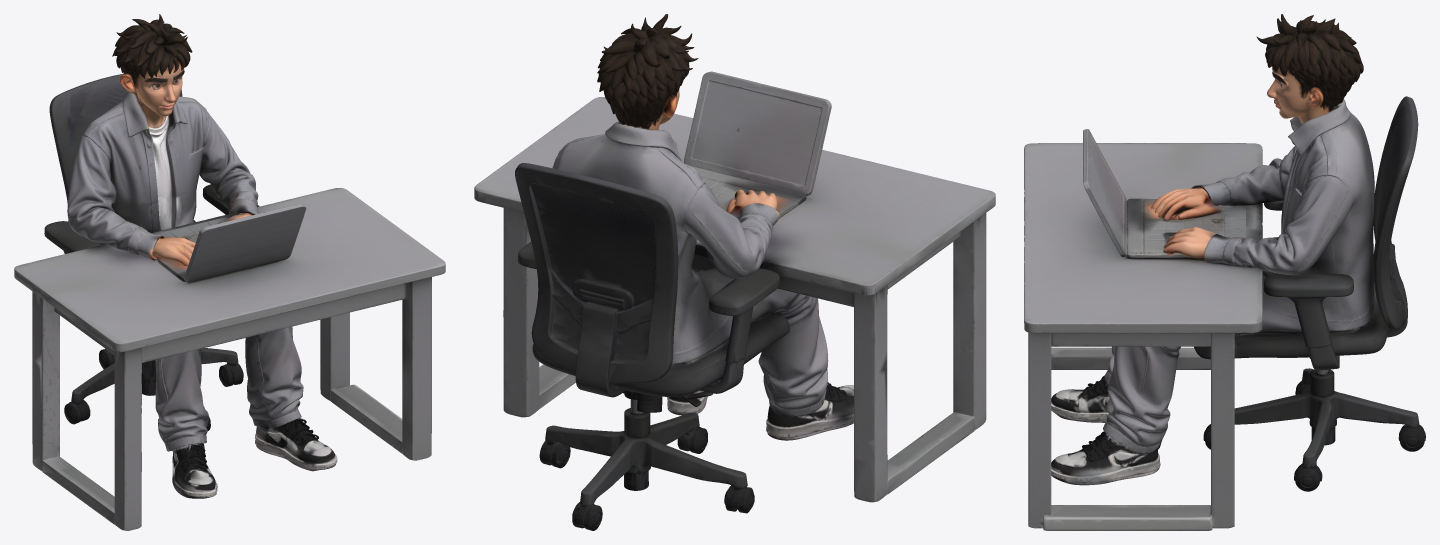
Rendered from avatar-fullbody.optimized.glb.
3 views of the same model, side by side, from view 1: azimuth 30°, elevation 25°; view 2: azimuth 150°, elevation 25°; view 3: azimuth 270°, elevation 25° (orthographic). The views are drawn at different scales.
Parts seen in each view (by area): view 1: node_0; view 2: node_0; view 3: node_0.
Part boxes in pixels (x1,y1,x2,y2): node_0: [14, 14, 445, 530]; node_0: [474, 14, 995, 530]; node_0: [1024, 14, 1425, 530].
Size of the model in its own units: 0.7029 by 0.7787 by 0.66.
1 material, 1 textured.
